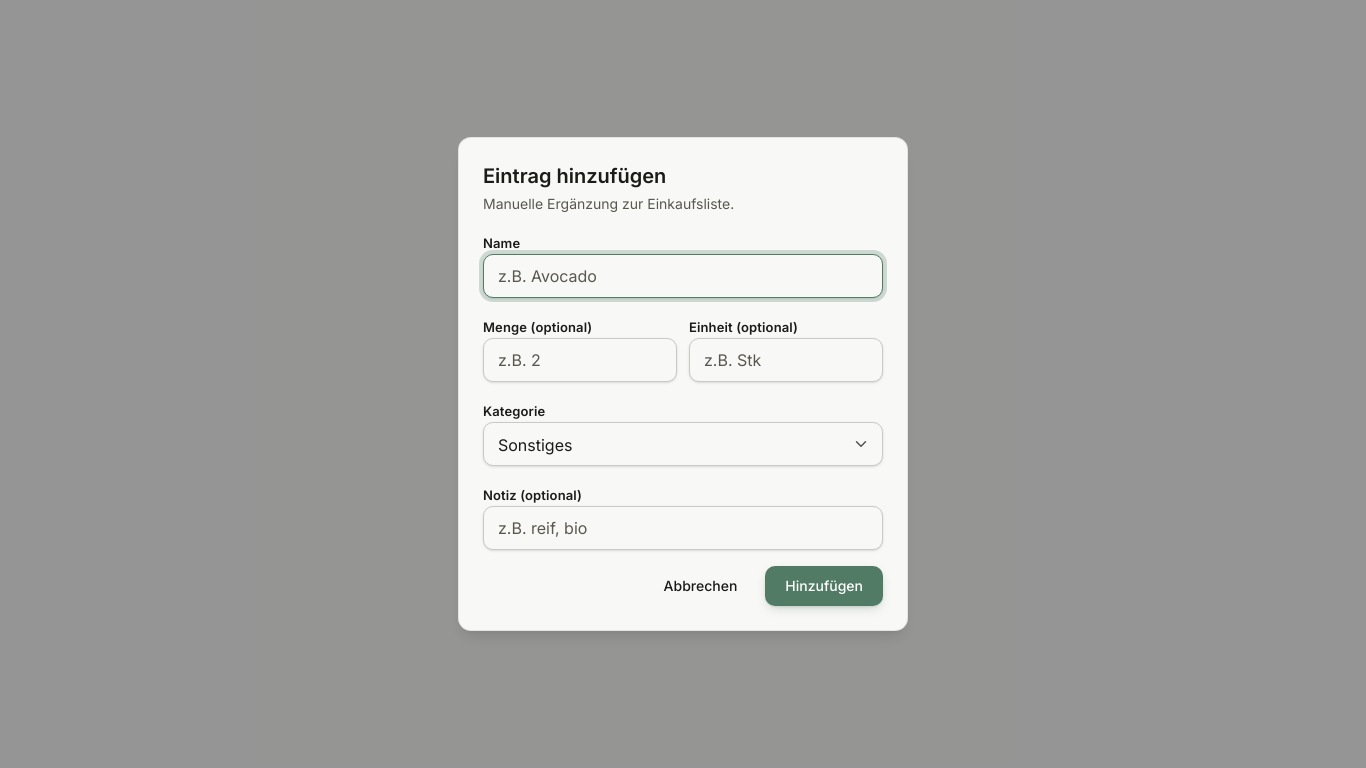
Test: <AddItemDialog /> › validates that the name is required
Click the button "Hinzufügen" at x=824, y=586, box [765,566,883,606]
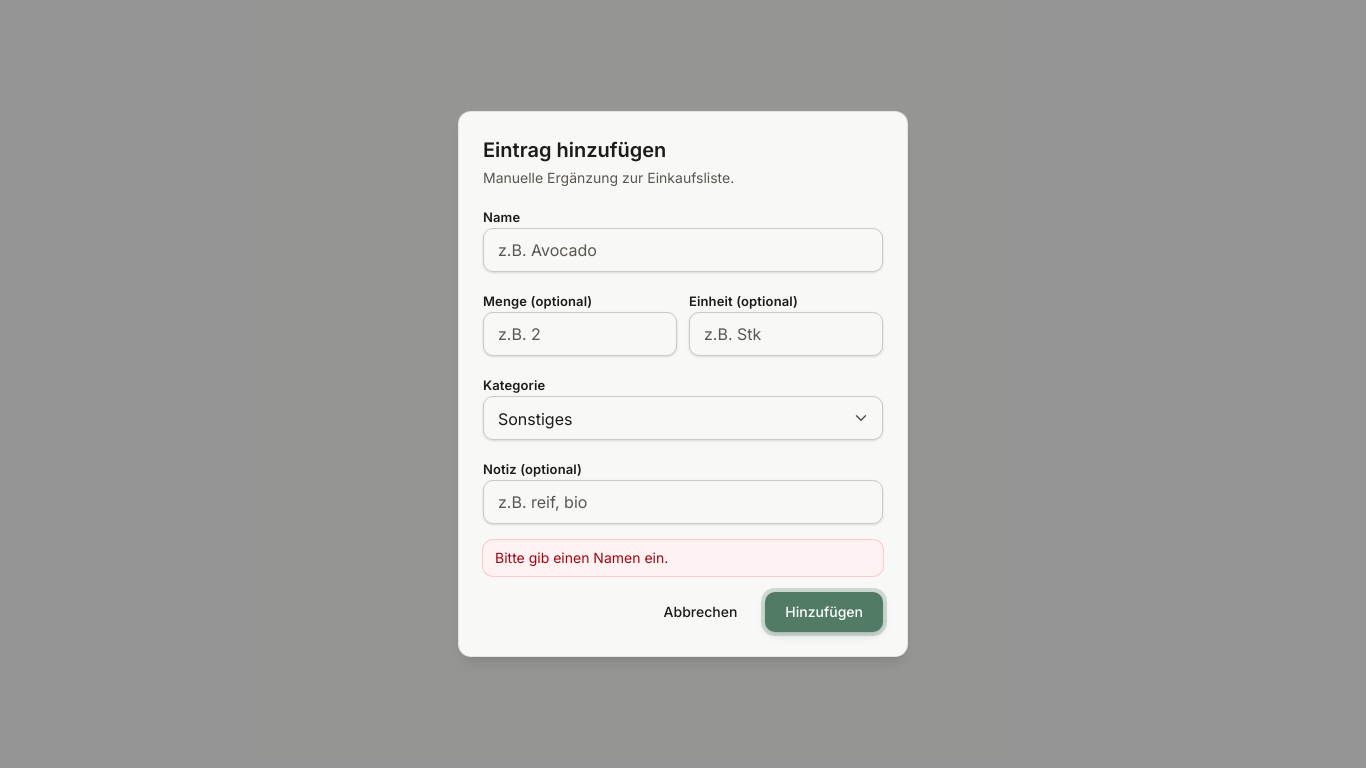
expect the message shows "Namen": met, box [495,549,668,566]
